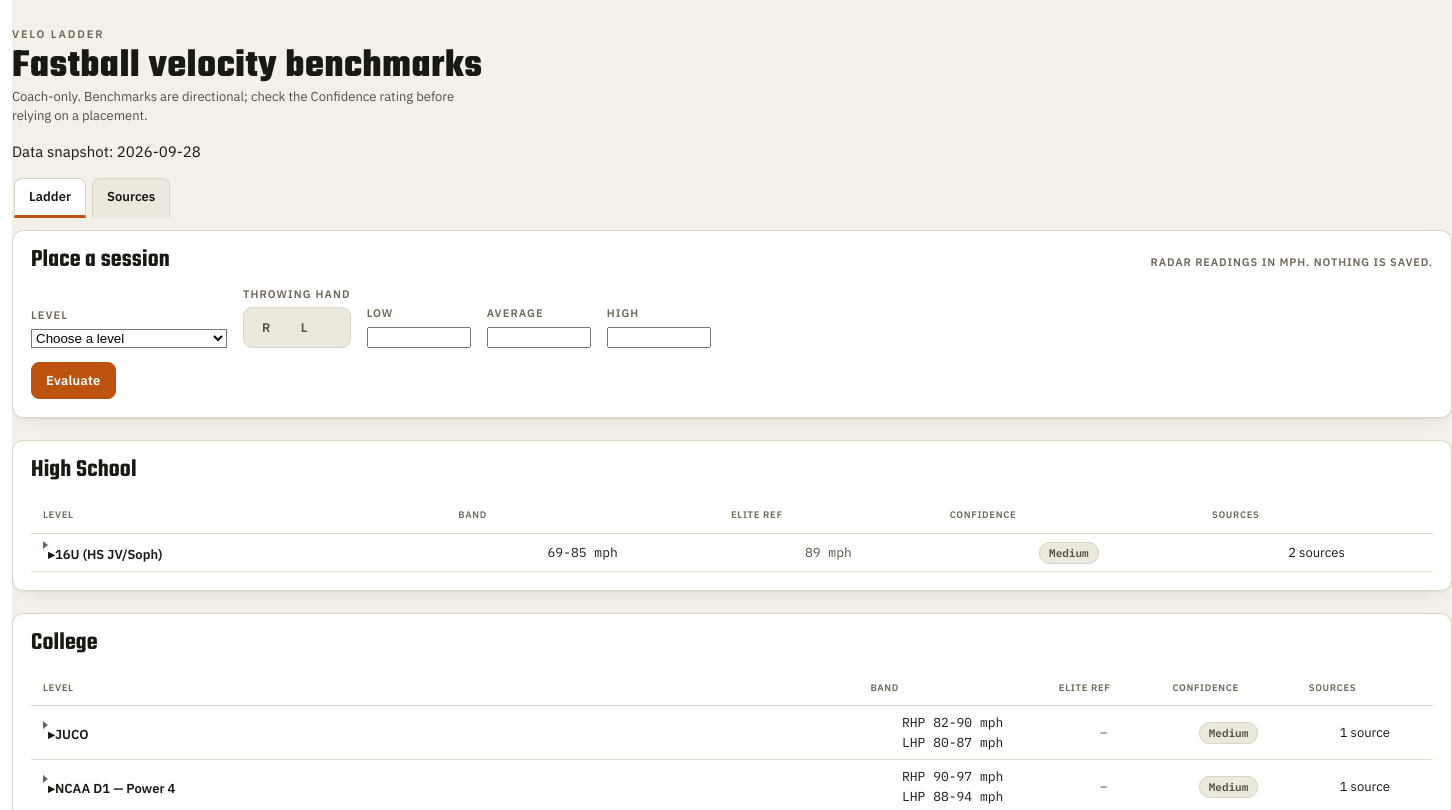
evaluating a 16U session shows the placement, the band and the confidence
Select "16U (HS JV/Soph)" in the dropdown labelled "Level" at point(129, 338), box 31,329 -> 227,348
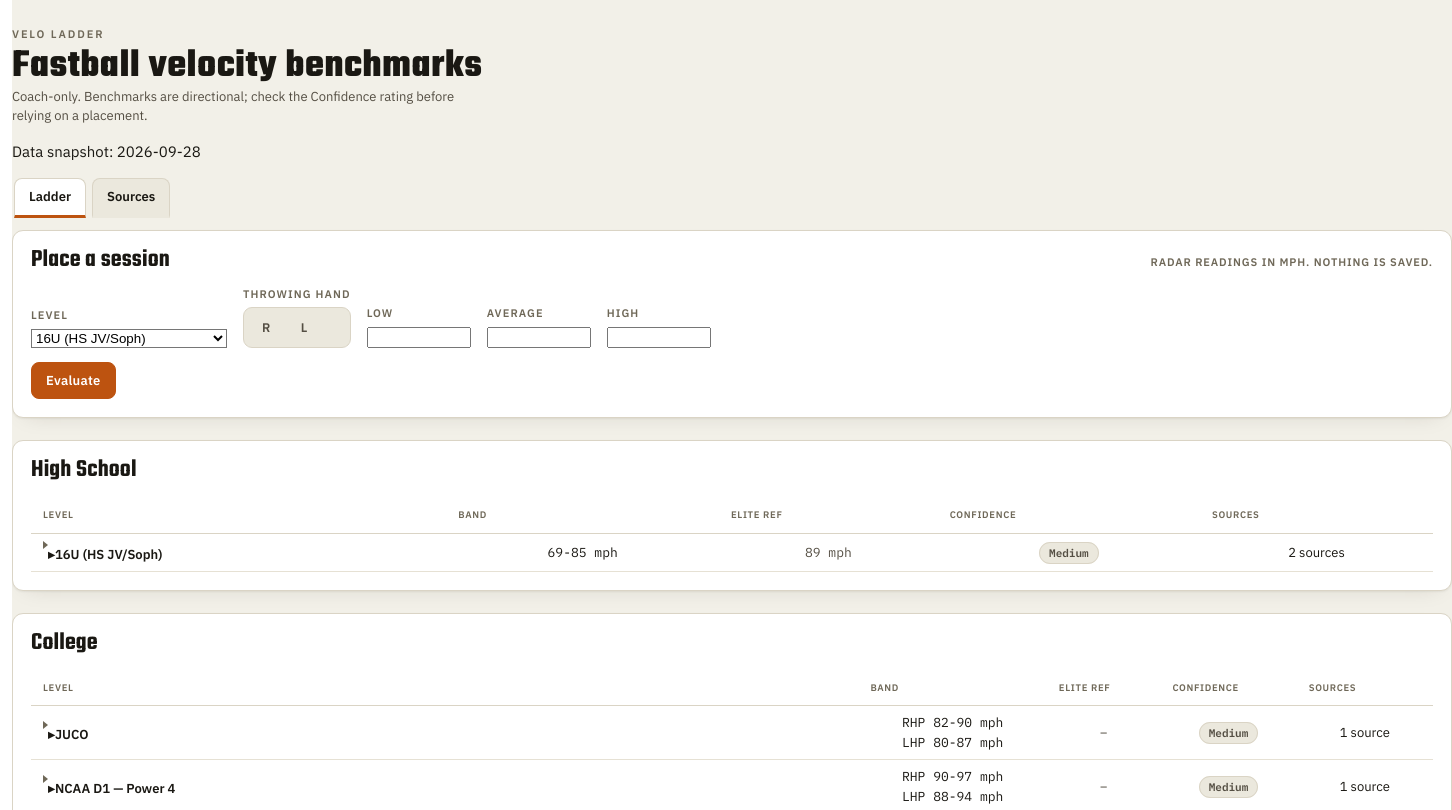
Type "74" into the number field labelled "Low" at point(419, 337), box 367,327 -> 471,348
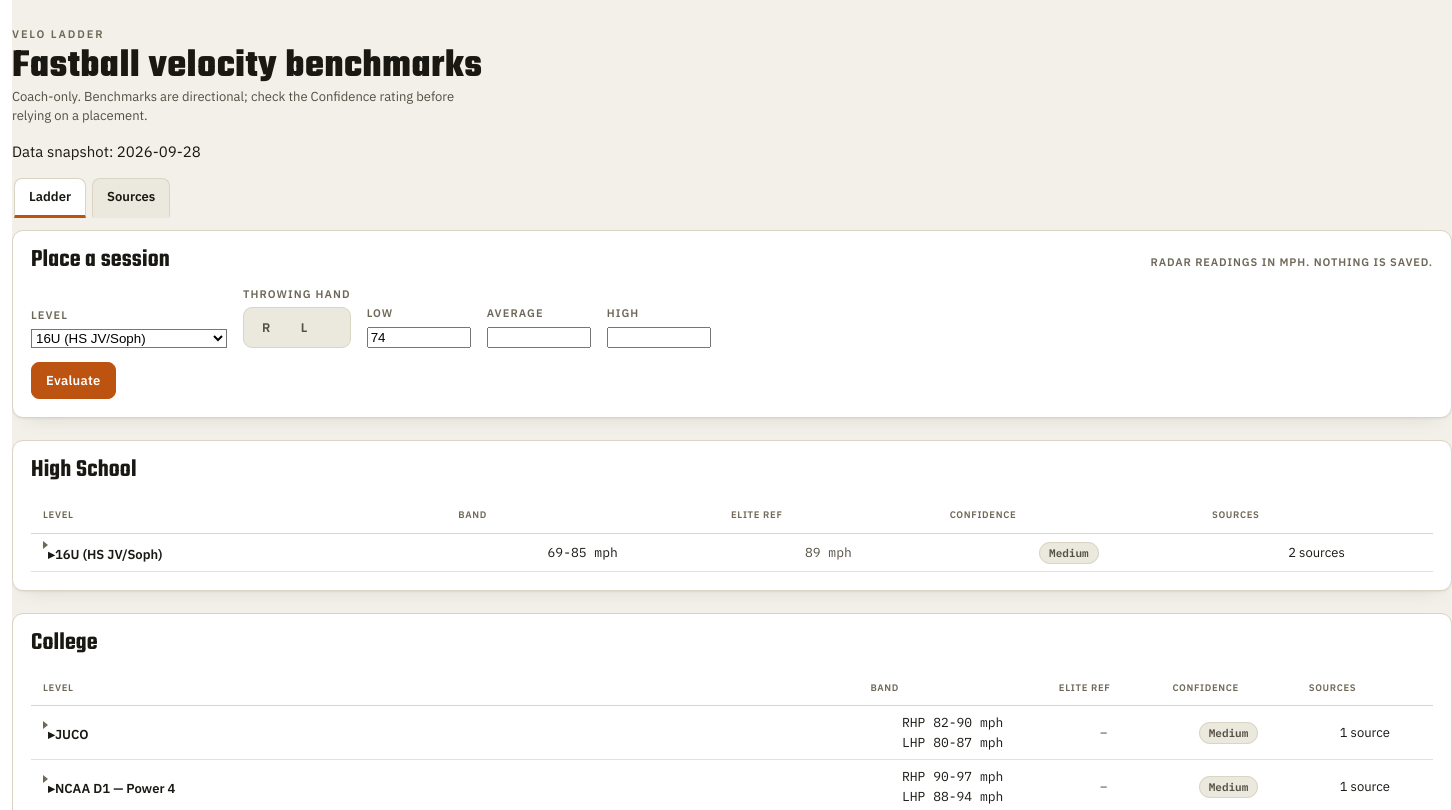
Type "79" into the number field labelled "Average" at point(539, 337), box 487,327 -> 591,348
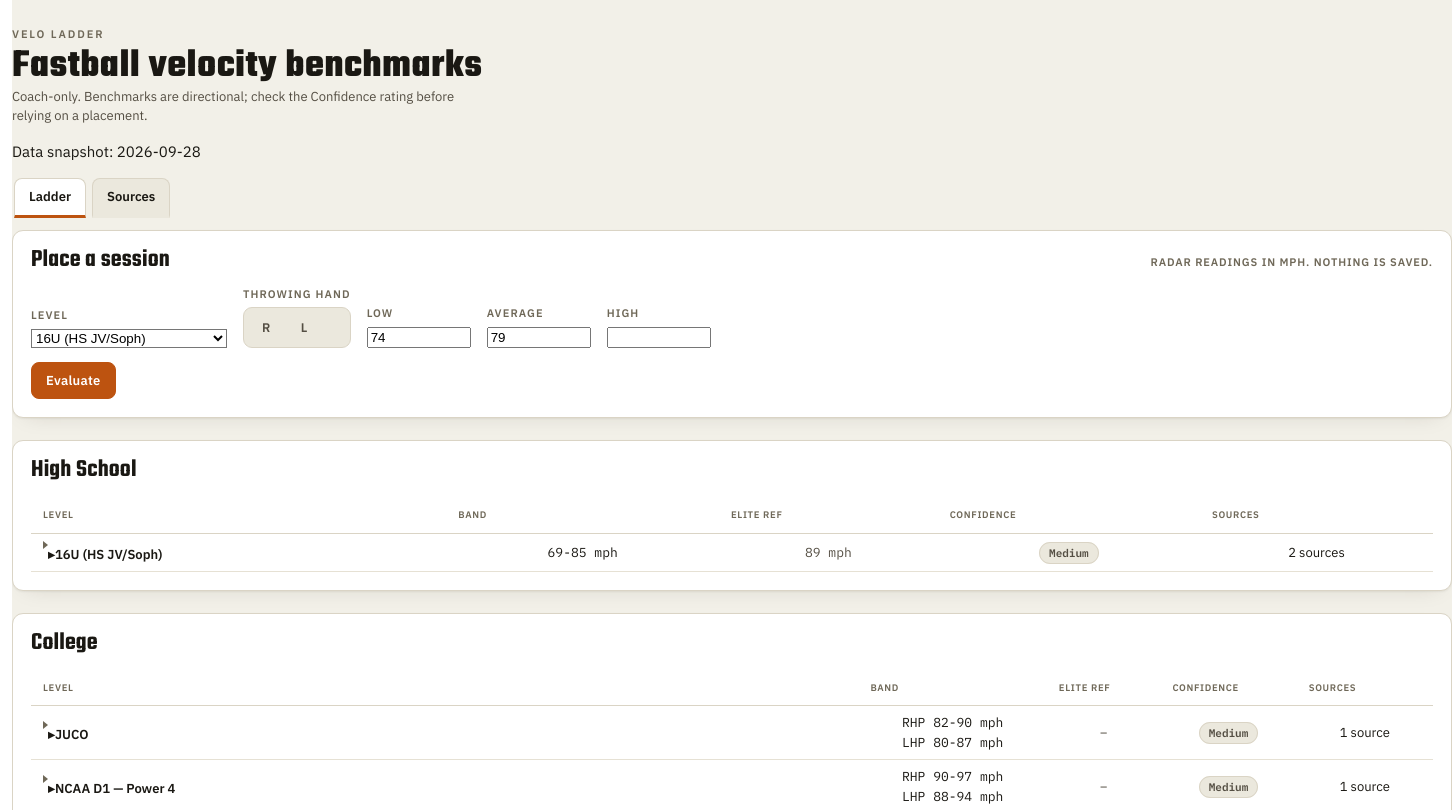
Type "83" into the number field labelled "High" at point(659, 337), box 607,327 -> 711,348
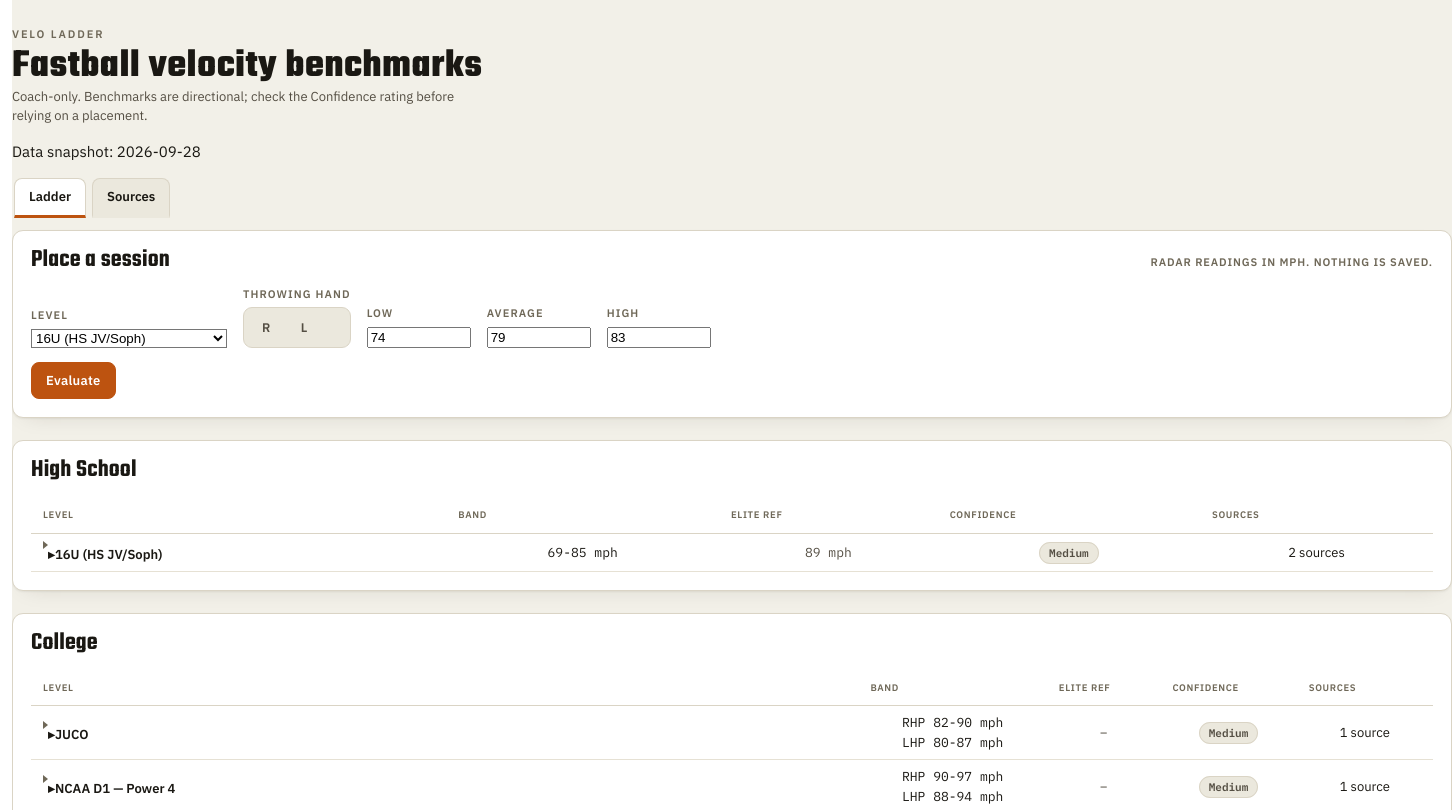
Click the button "Evaluate" at point(73, 381), box 31,362 -> 116,399
(page scrolled)
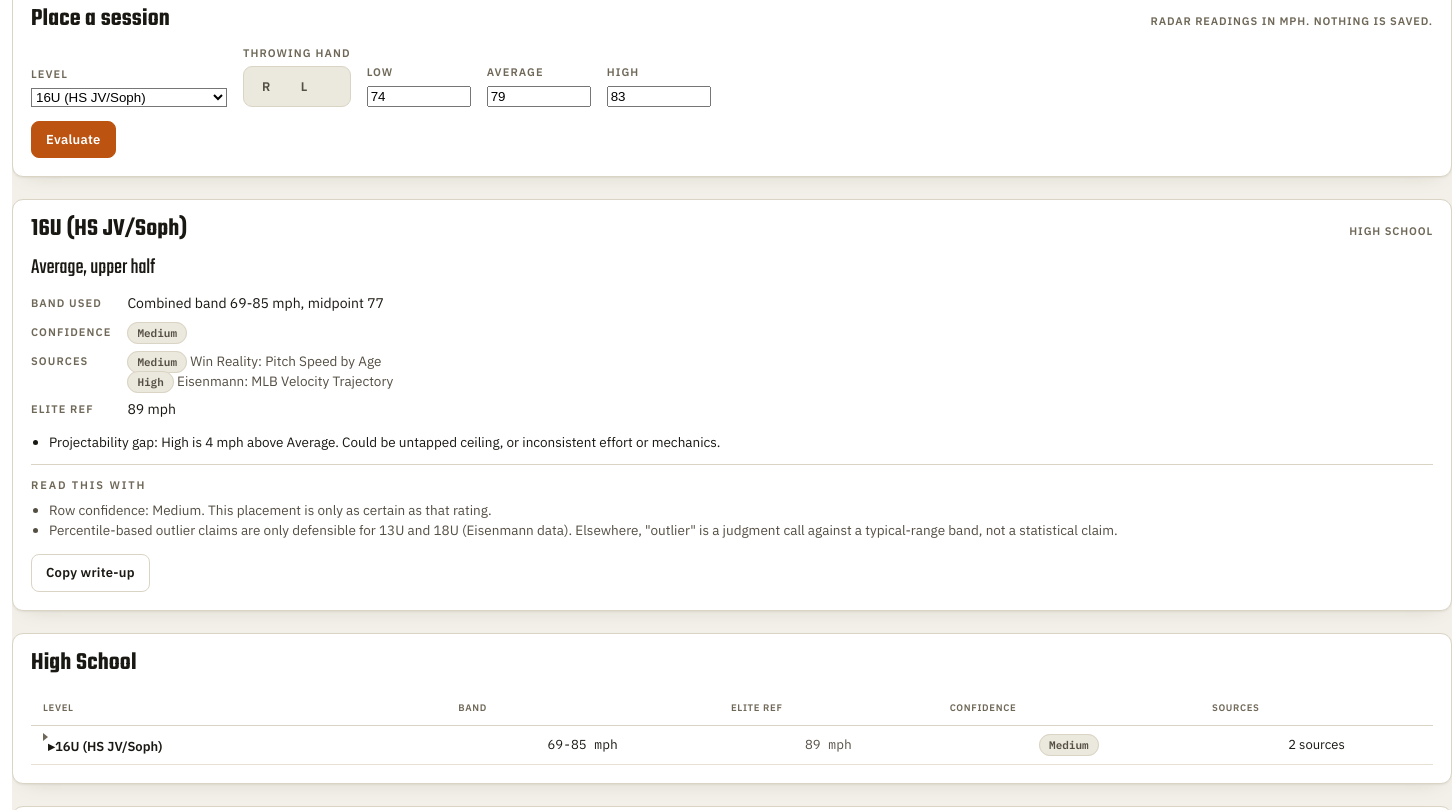
Expected: the text "upper half" is shown, 31,252 -> 155,283
Expected: the element named "Placement result" shows "16U (HS JV/Soph)", 31,211 -> 187,247
Expected: the element named "Placement result" shows "High School", 1349,224 -> 1433,238
